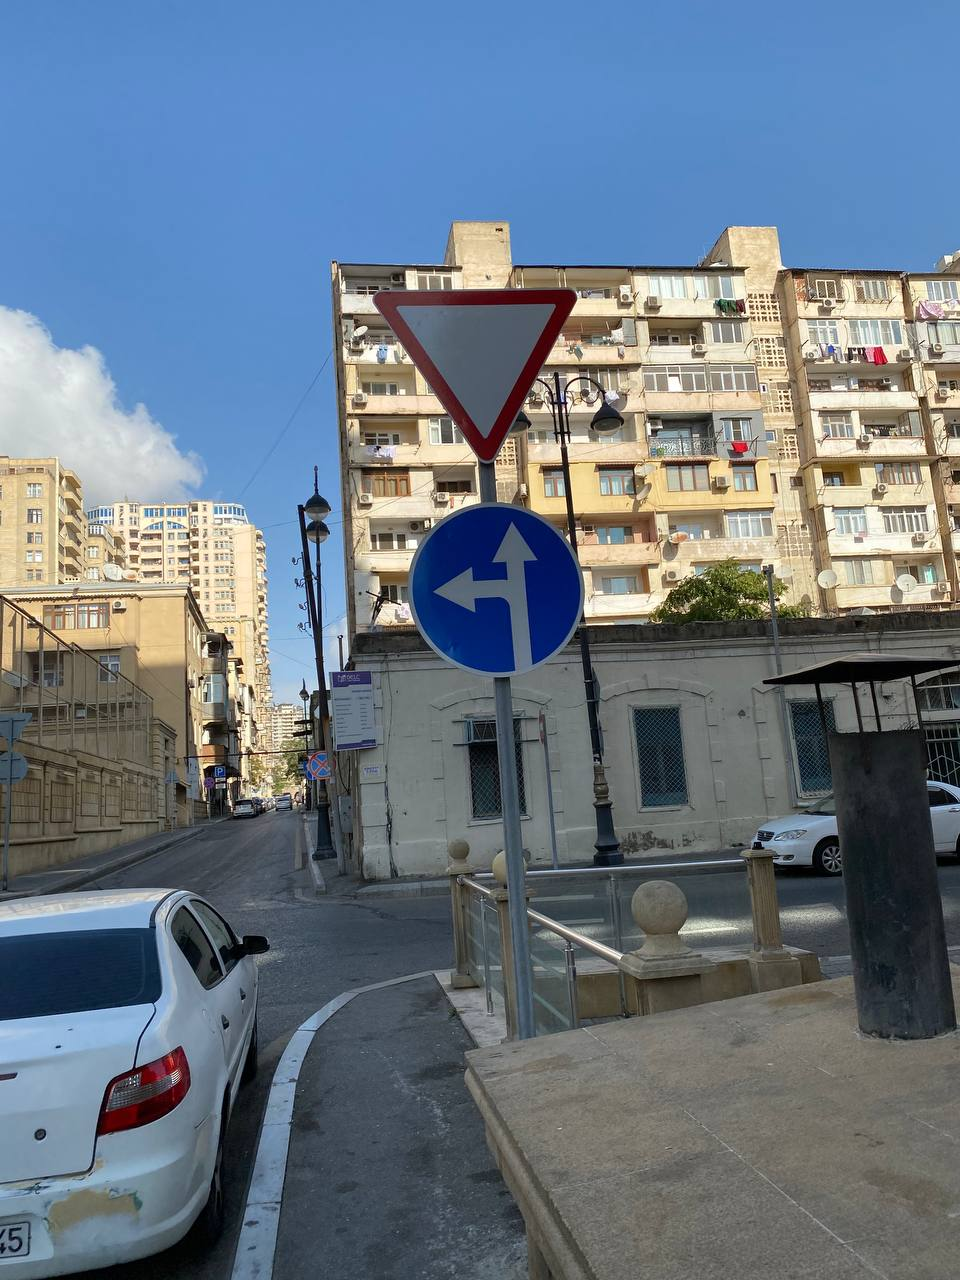Give Way: (371, 287, 578, 463)
Straight or Left: (407, 502, 585, 676)
